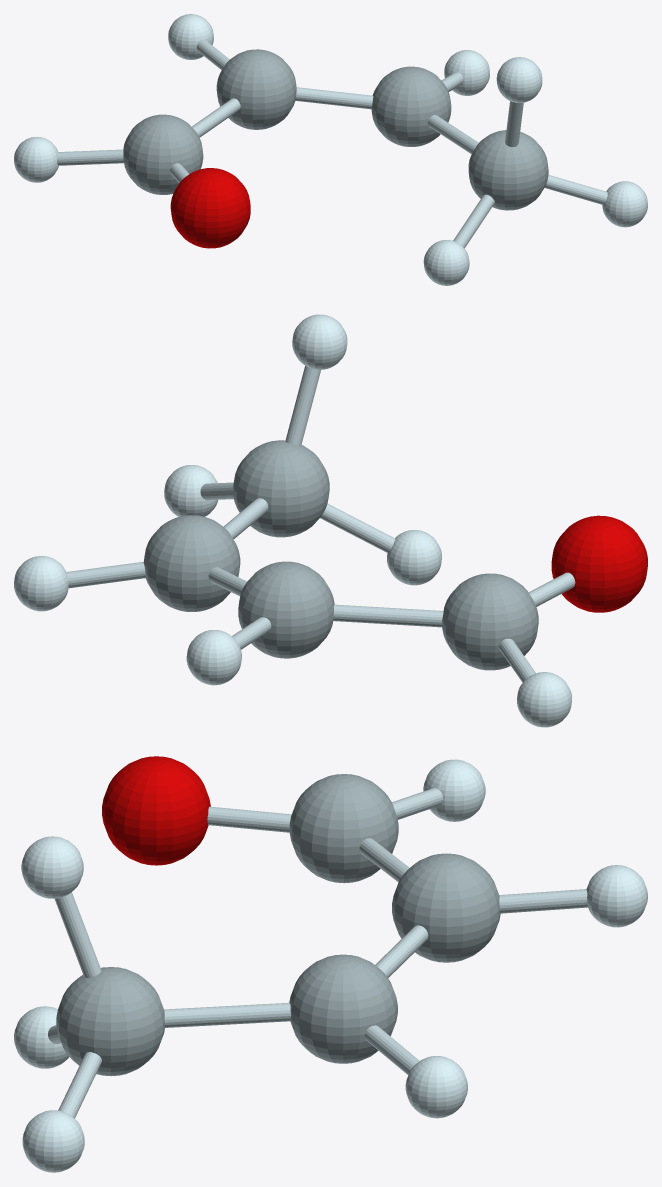
Rendered from irc_030.glb.
3 views of the same model, one above another, from view 1: azimuth 30°, elevation 25°; view 2: azimuth 150°, elevation 25°; view 3: azimuth 270°, elevation 25° (orthographic). The views are drawn at different scales.
Parts seen in each view (by area): view 1: Renderer Node; view 2: Renderer Node; view 3: Renderer Node.
Boxes of the visible parts, x1,y1,x2,y2 form: Renderer Node: [14, 14, 647, 285]; Renderer Node: [14, 314, 647, 727]; Renderer Node: [14, 756, 647, 1172].
Bounding box in the file's own units: 4.81 × 1.95 × 4.06.
